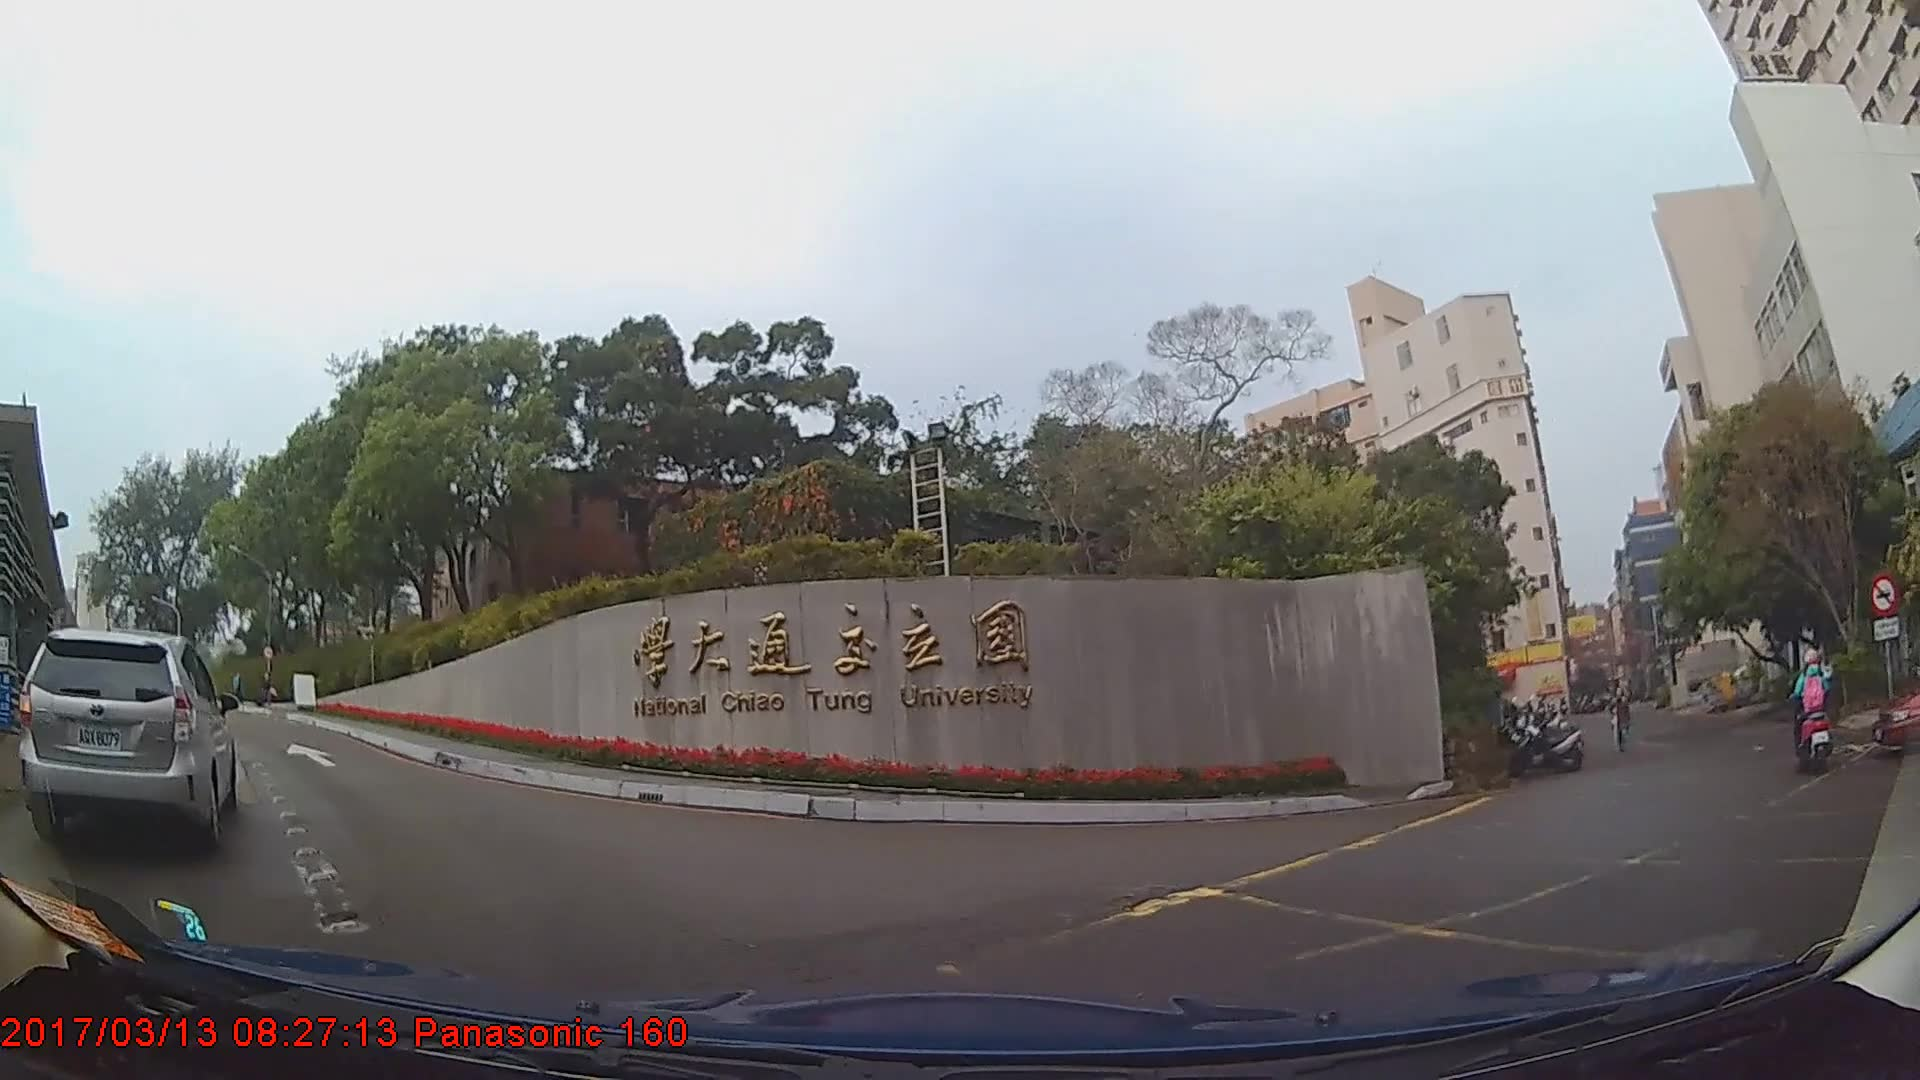pedestrian: (1612, 691, 1635, 755)
rider: (1792, 650, 1838, 781)
vehicle: (17, 626, 235, 854)
